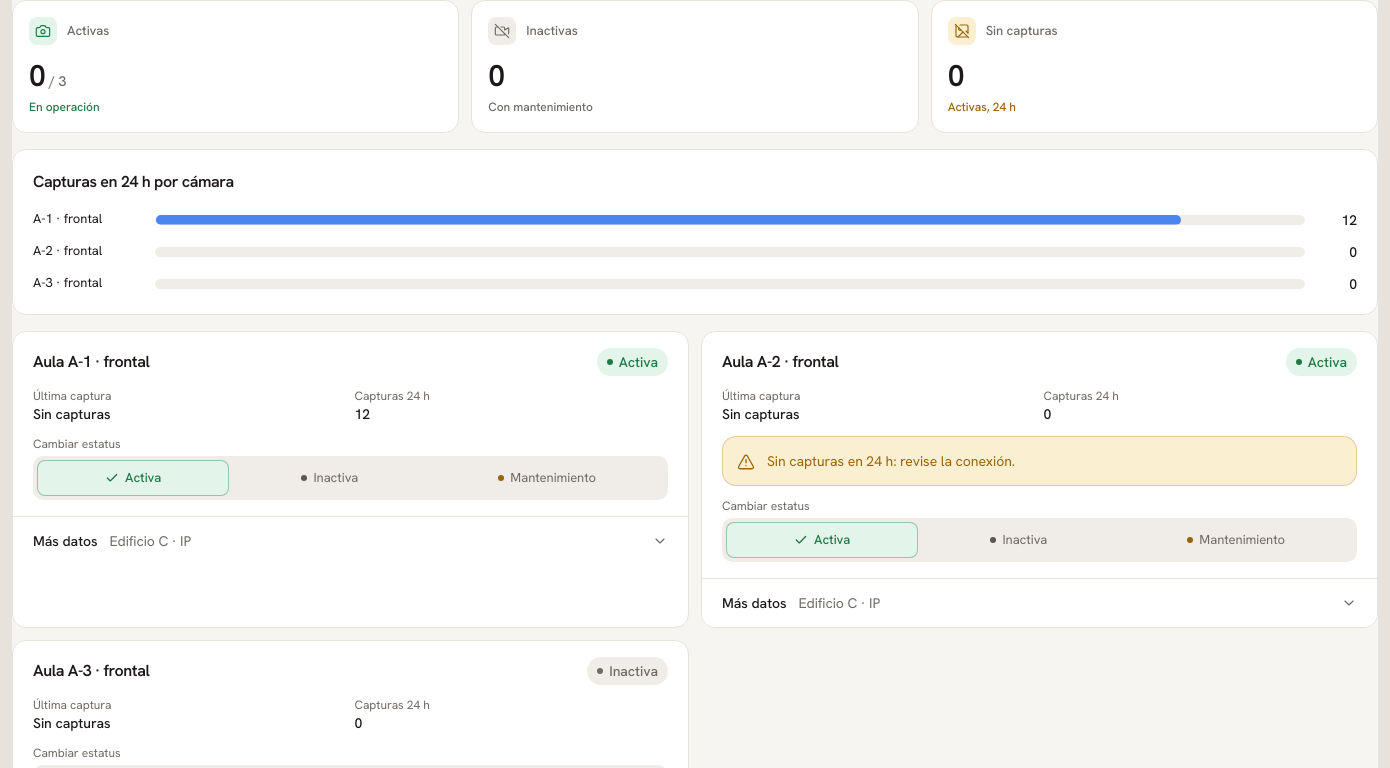
CamarasEstado › la tarjeta es compacta: estado, última captura y capturas; el resto está plegado pero en el DOM
expect the text "Activa" is shown: met, box [597, 348, 668, 376]
expect the text "Última captura" below "Aula A-1 · frontal" is shown: met, box [33, 388, 111, 404]
Click the button "Más datos Edificio C · IP" below "Aula A-1 · frontal" at (65, 540), box [13, 516, 688, 564]
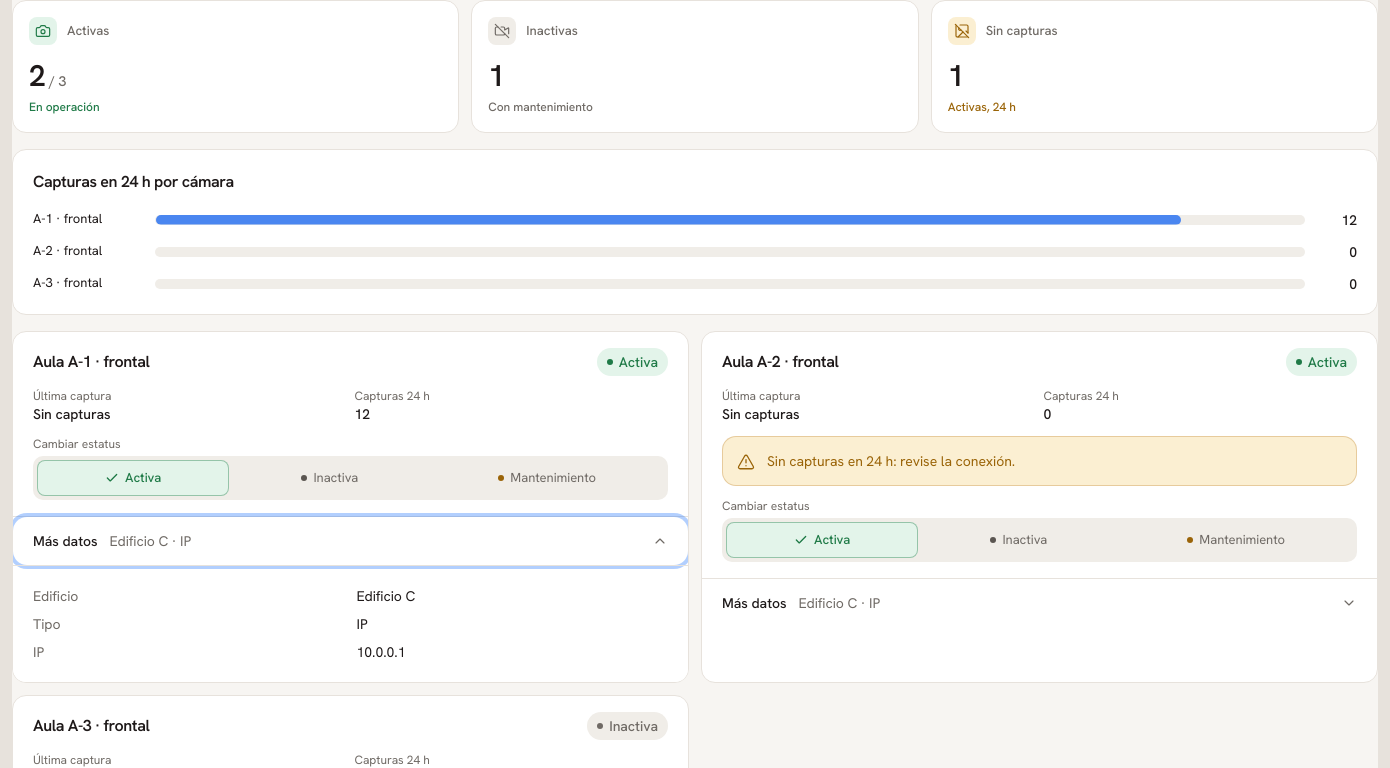
expect the button "Más datos Edificio C · IP" below "Aula A-1 · frontal" is expanded: met, box [13, 516, 688, 564]
